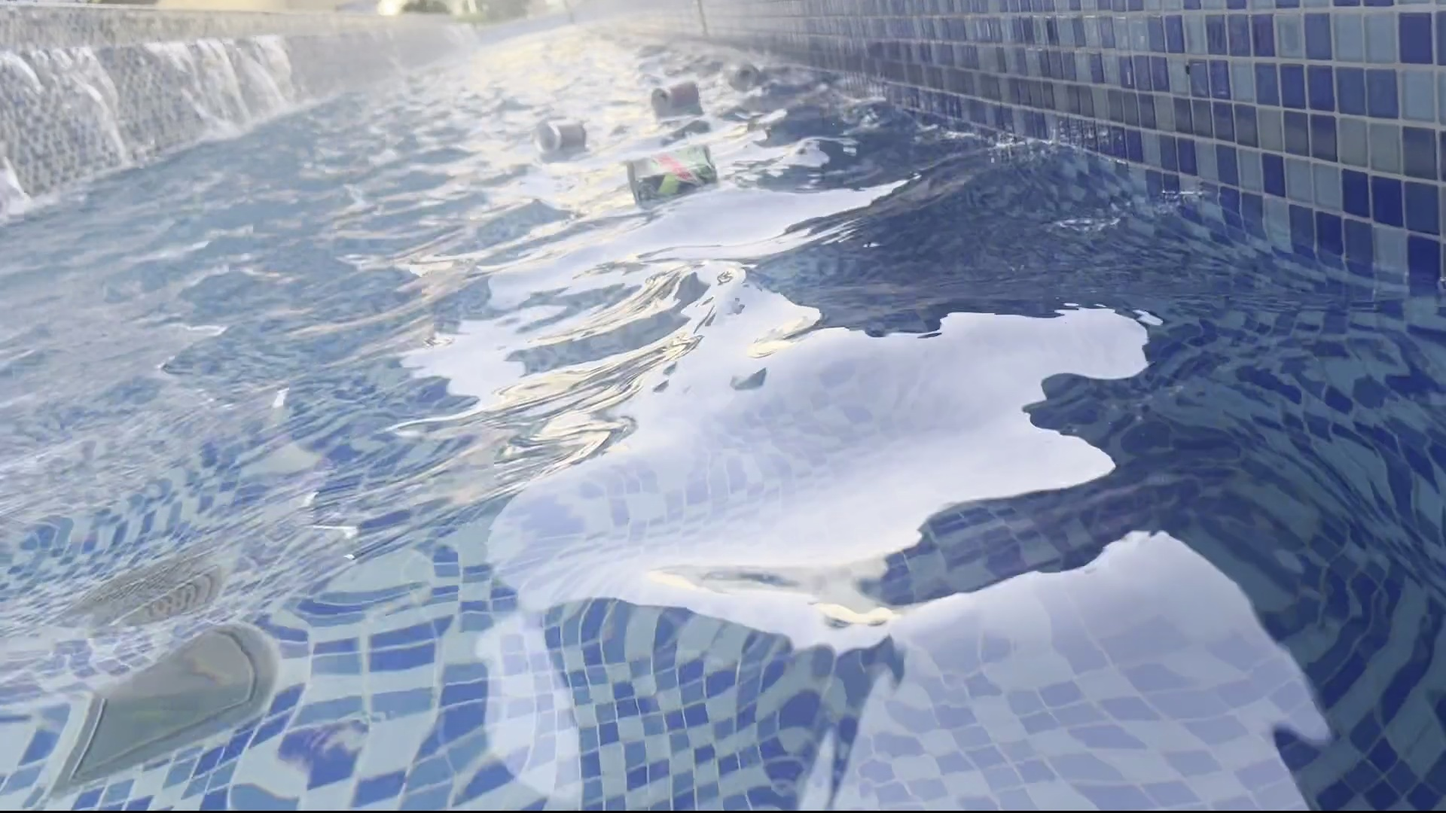debris: (621, 143, 724, 212), (643, 70, 704, 117), (533, 112, 593, 157), (715, 56, 764, 95)
